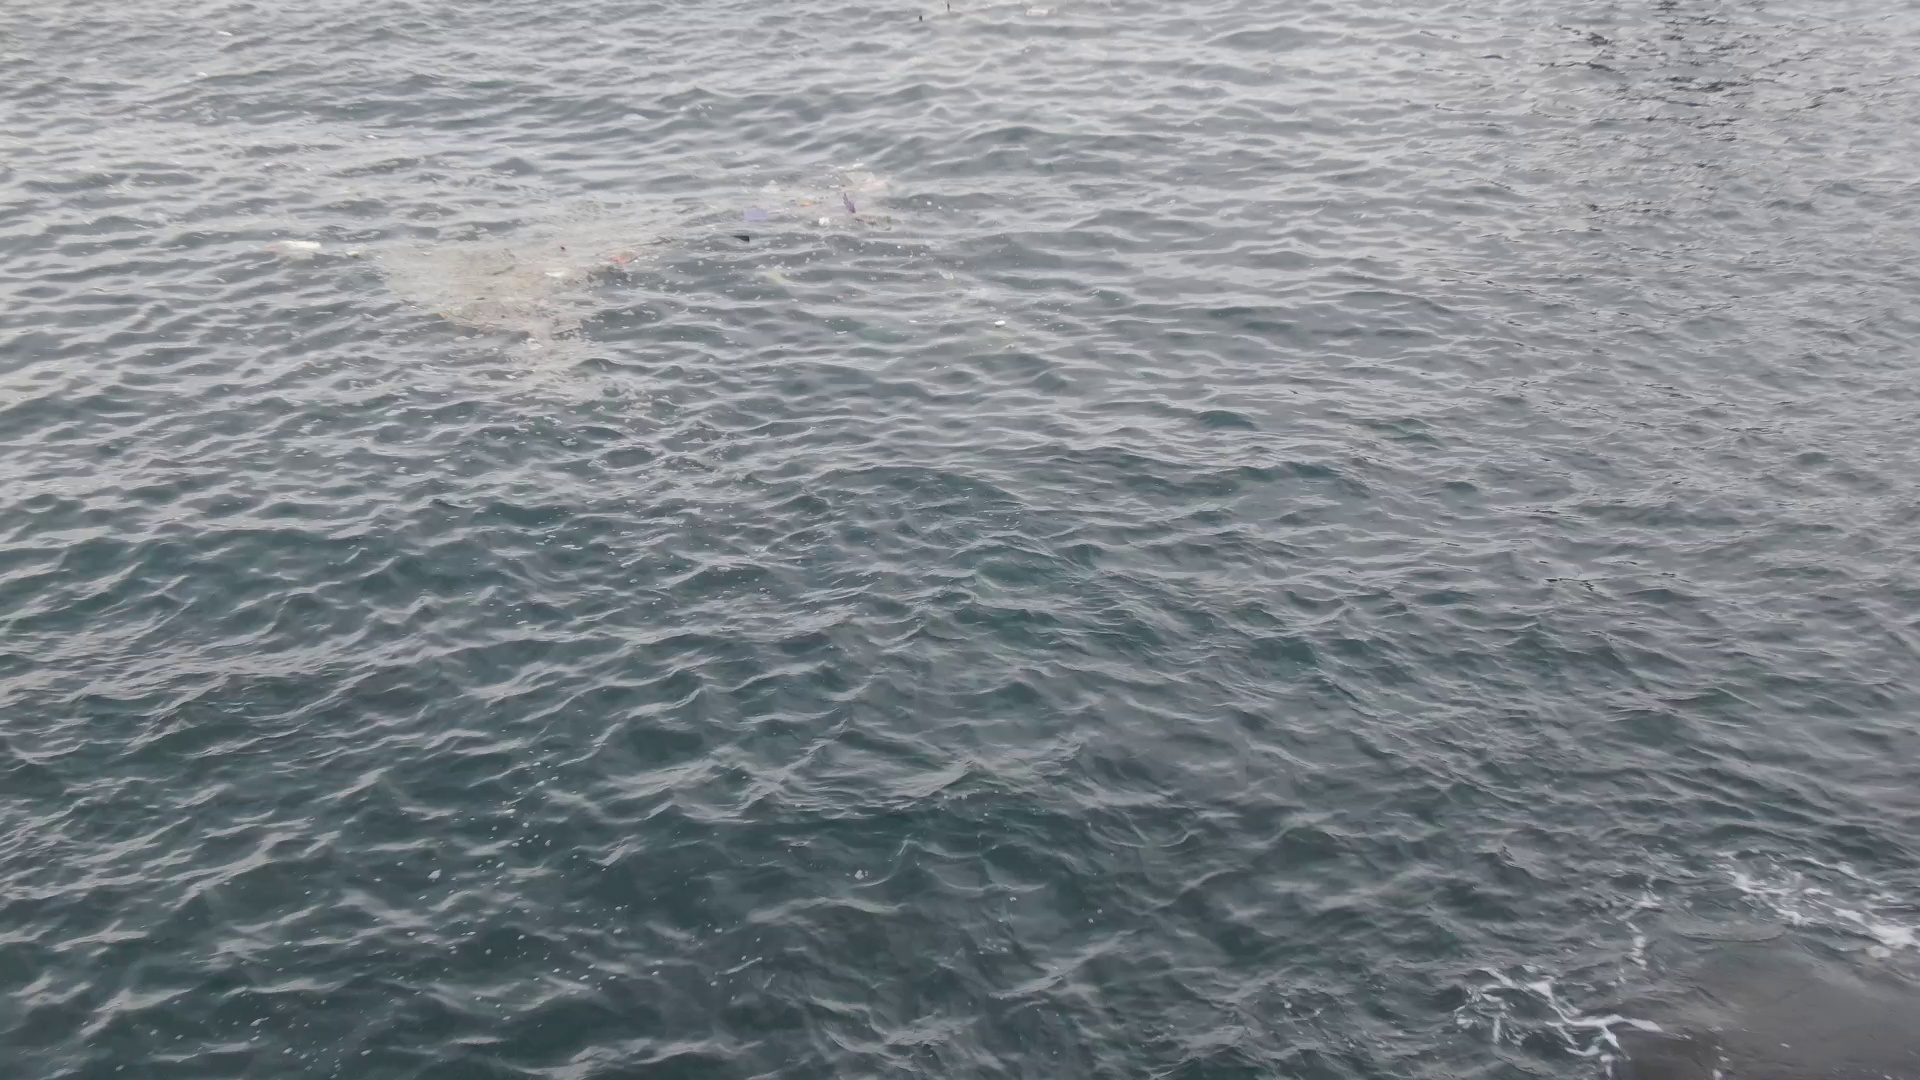garbage: (268, 239, 322, 251), (742, 207, 769, 222), (607, 255, 634, 266), (798, 193, 818, 207), (844, 193, 857, 214), (545, 272, 566, 278), (819, 218, 829, 225)
